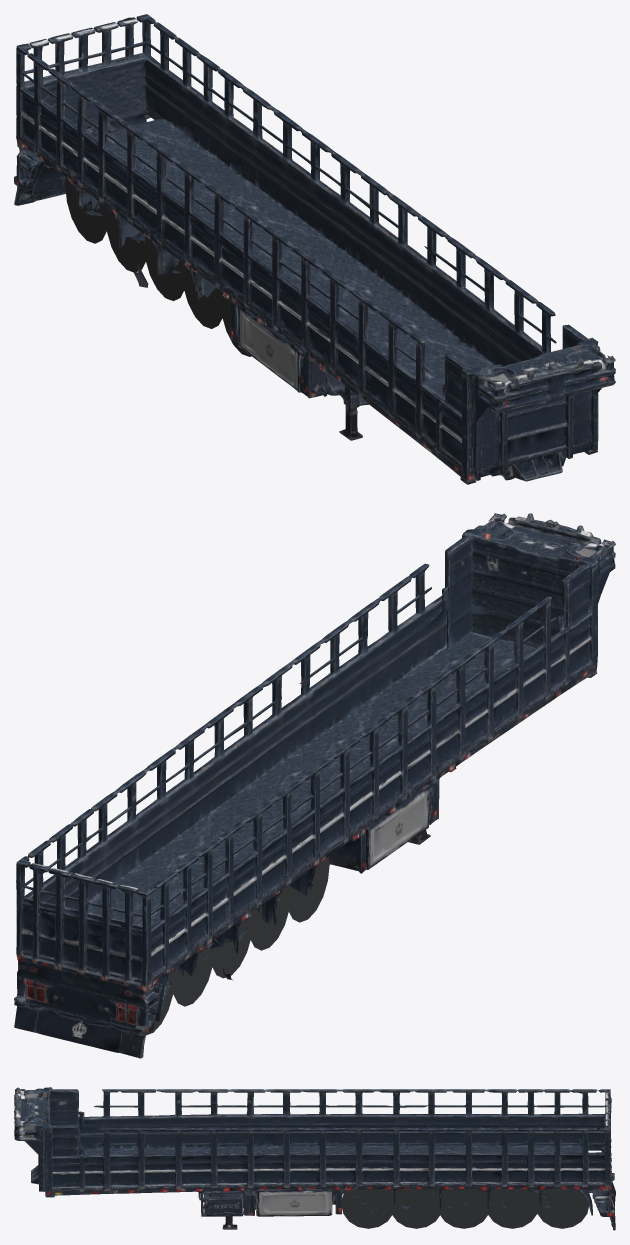
Rendered from car_grade5.glb.
3 renders of one model, top to bottom at view 1: azimuth 30°, elevation 25°; view 2: azimuth 150°, elevation 25°; view 3: azimuth 270°, elevation 25°, orthographic. The views are drawn at different scales.
Parts seen in each view (by area): view 1: carroceria, chassi; view 2: carroceria, chassi; view 3: carroceria, chassi.
Boxes of the visible parts, left/top/right/bottom form: carroceria: left=14, top=14, right=615, bottom=484; chassi: left=65, top=178, right=251, bottom=356; carroceria: left=14, top=513, right=615, bottom=1058; chassi: left=146, top=856, right=329, bottom=1035; carroceria: left=14, top=1087, right=615, bottom=1230; chassi: left=342, top=1189, right=588, bottom=1228.
Size of the model in its own units: 2.57 by 3.44 by 16.
Materials: 2 (1 with a texture image).
